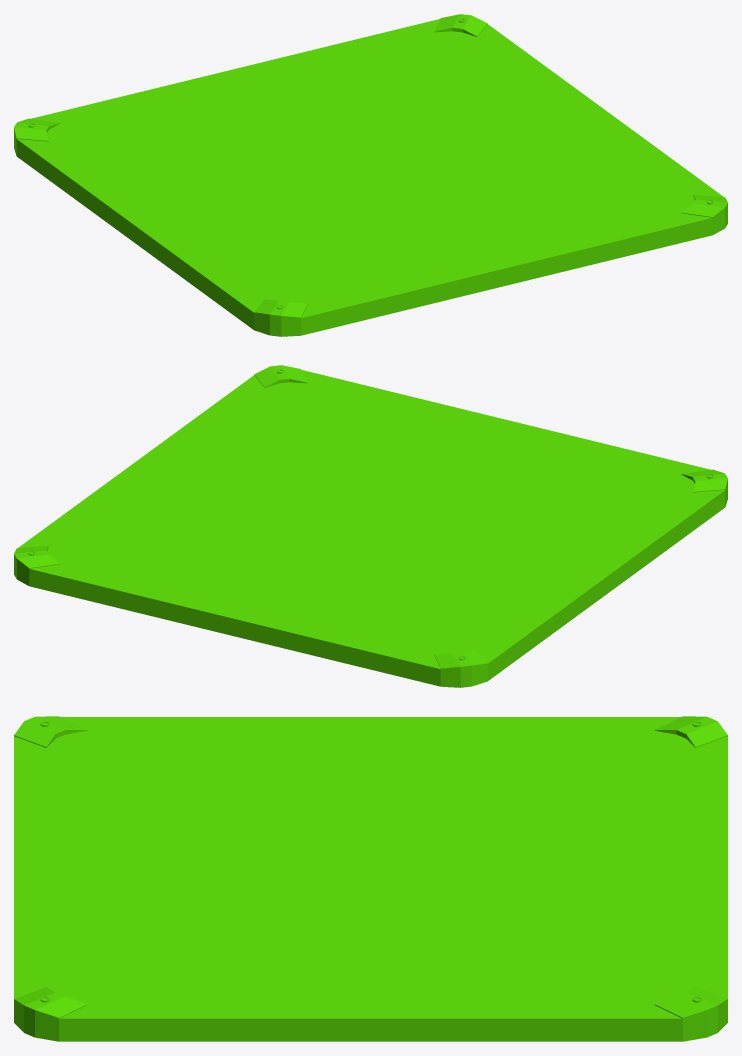
File: Mod_MechaPlatform.fbx
3 views of the same model, one above another, from view 1: azimuth 30°, elevation 25°; view 2: azimuth 150°, elevation 25°; view 3: azimuth 270°, elevation 25° (orthographic). The views are drawn at different scales.
Parts seen in each view (by area): view 1: Mod_MechaPlatform; view 2: Mod_MechaPlatform; view 3: Mod_MechaPlatform.
Boxes of the visible parts, left/top/right/bottom form: Mod_MechaPlatform: left=14, top=14, right=727, bottom=336; Mod_MechaPlatform: left=14, top=365, right=727, bottom=687; Mod_MechaPlatform: left=14, top=716, right=727, bottom=1041.
Size of the model in its own units: 872 by 118 by 872.
